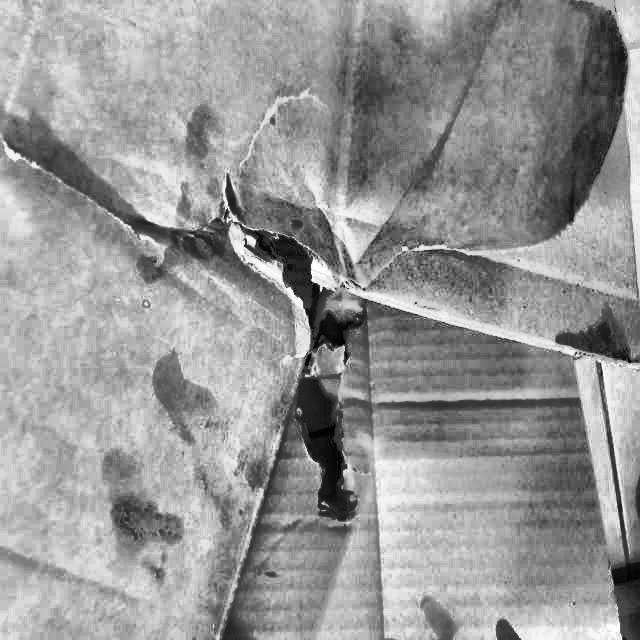box: (0, 0, 639, 638)
hole: (297, 311, 366, 524)
